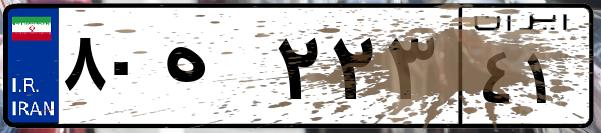0: (110, 28, 158, 98)
1: (525, 38, 570, 115)
2: (270, 28, 330, 110), (330, 28, 385, 110)
3: (385, 28, 445, 110)
4: (475, 38, 525, 113)
8: (57, 26, 110, 100)
ه: (158, 20, 270, 120)
